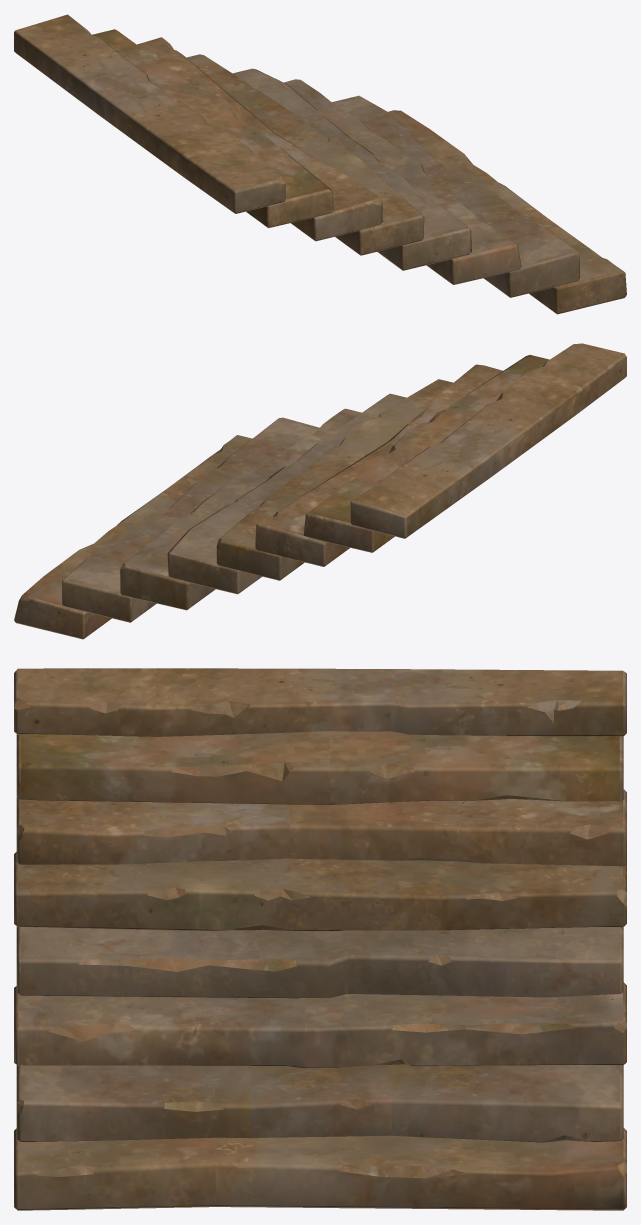
3 views of the same model, one above another, from view 1: azimuth 30°, elevation 25°; view 2: azimuth 150°, elevation 25°; view 3: azimuth 270°, elevation 25° (orthographic). The views are drawn at different scales.
Parts seen in each view (by area): view 1: SM_Vault_4m_Stairs_01v1_LOD0; view 2: SM_Vault_4m_Stairs_01v1_LOD0; view 3: SM_Vault_4m_Stairs_01v1_LOD0.
Boxes of the visible parts, x1,y1,x2,y2 form: SM_Vault_4m_Stairs_01v1_LOD0: (14, 14, 626, 314); SM_Vault_4m_Stairs_01v1_LOD0: (14, 343, 626, 639); SM_Vault_4m_Stairs_01v1_LOD0: (14, 668, 626, 1210).
Bounding box in the file's own units: 4.1 × 2.04 × 4.
1 material, 1 textured.
